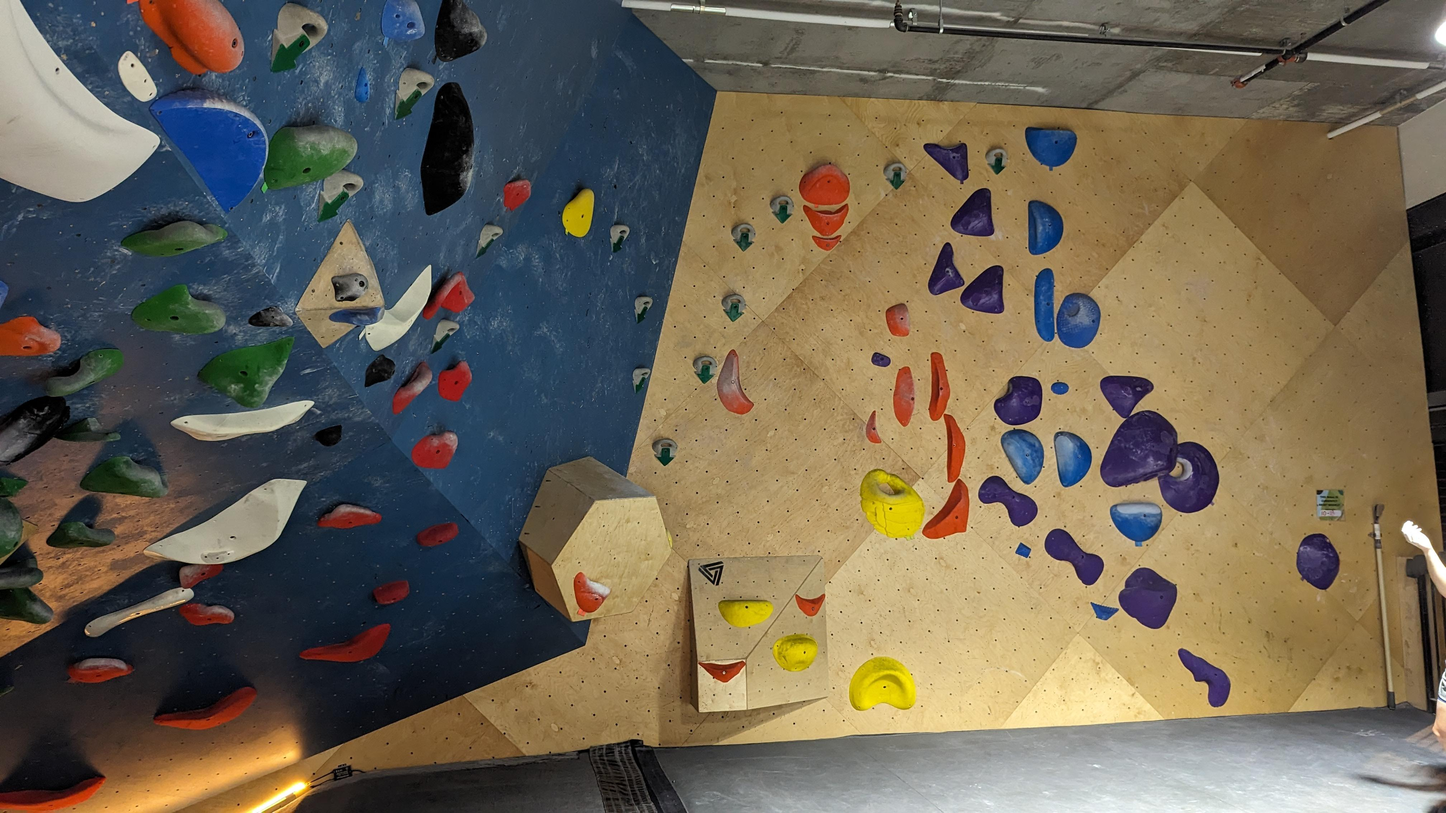black-hold: (0, 0, 165, 243), (139, 57, 293, 215), (136, 467, 325, 593), (195, 303, 303, 416), (413, 78, 486, 222), (1086, 402, 1189, 494), (357, 262, 453, 358), (842, 459, 938, 552), (255, 113, 364, 192), (151, 675, 264, 750), (138, 0, 245, 75), (169, 396, 319, 448), (1148, 434, 1234, 524), (0, 381, 81, 471), (81, 582, 196, 641), (118, 210, 230, 269), (258, 0, 333, 87), (37, 339, 129, 404), (298, 621, 399, 679), (1110, 561, 1186, 635), (130, 282, 228, 336), (920, 473, 986, 552), (1174, 635, 1240, 711), (1036, 523, 1110, 590), (79, 450, 173, 502), (300, 159, 368, 230), (420, 0, 493, 65), (416, 268, 483, 335), (972, 470, 1043, 533), (1285, 527, 1351, 594), (375, 59, 438, 127), (996, 420, 1056, 489), (1091, 357, 1155, 421), (0, 776, 110, 813), (1048, 288, 1107, 354), (848, 655, 917, 711), (706, 348, 756, 420), (108, 48, 163, 108), (384, 359, 438, 419), (915, 241, 966, 298), (1051, 427, 1097, 489), (429, 352, 480, 407), (993, 374, 1044, 427), (562, 570, 614, 619), (947, 187, 995, 240), (0, 316, 62, 357), (1022, 126, 1078, 169), (1109, 501, 1164, 543), (959, 265, 1004, 315), (315, 499, 383, 532), (558, 184, 598, 240), (355, 350, 402, 397), (798, 164, 850, 206), (0, 553, 47, 599), (45, 520, 116, 550), (0, 587, 54, 625), (1028, 200, 1064, 256), (65, 656, 135, 684), (923, 141, 969, 183), (53, 415, 122, 443), (494, 171, 538, 214), (419, 313, 462, 357), (772, 633, 819, 673), (464, 218, 506, 262), (411, 430, 458, 469), (381, 0, 426, 40), (942, 413, 966, 483), (718, 599, 774, 628), (328, 304, 388, 331), (803, 203, 850, 237), (177, 558, 226, 590), (1034, 268, 1055, 342), (929, 352, 951, 421), (178, 602, 236, 628), (414, 519, 462, 550), (892, 366, 916, 427), (371, 575, 414, 609), (330, 271, 372, 305), (0, 497, 23, 559), (647, 431, 684, 468), (764, 189, 800, 225), (688, 350, 724, 385), (717, 287, 752, 323), (726, 217, 762, 252), (879, 156, 914, 192), (697, 659, 747, 684), (883, 302, 914, 340), (981, 142, 1015, 176), (310, 423, 348, 452), (248, 305, 295, 328), (626, 292, 655, 327), (625, 362, 652, 396), (794, 592, 826, 617), (861, 410, 882, 446), (608, 223, 631, 255), (1087, 601, 1120, 623), (0, 476, 30, 500), (354, 65, 371, 104), (812, 233, 843, 253), (869, 351, 893, 370), (1014, 542, 1033, 560), (0, 280, 9, 310), (1051, 382, 1069, 395)
